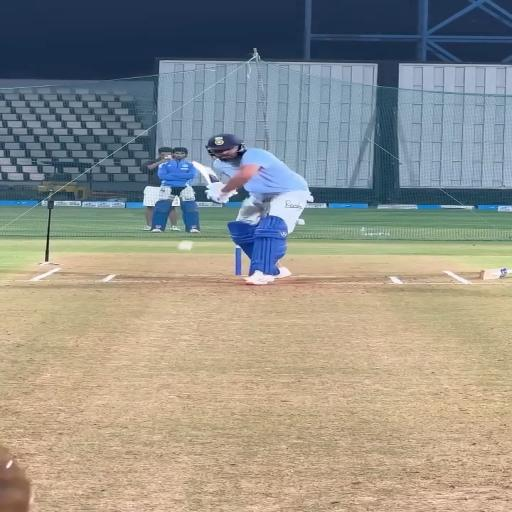Cricket bat: (192, 161, 219, 184)
